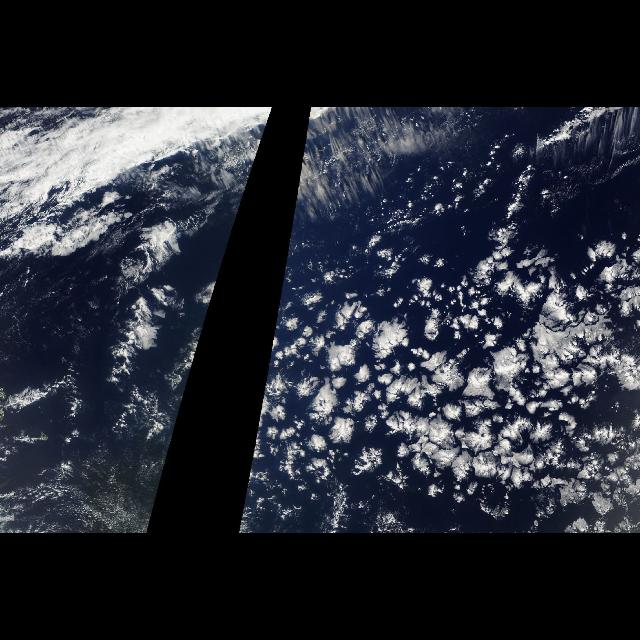Flower: (255, 184, 633, 530)
